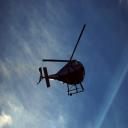helicopter: (38, 26, 89, 97)
